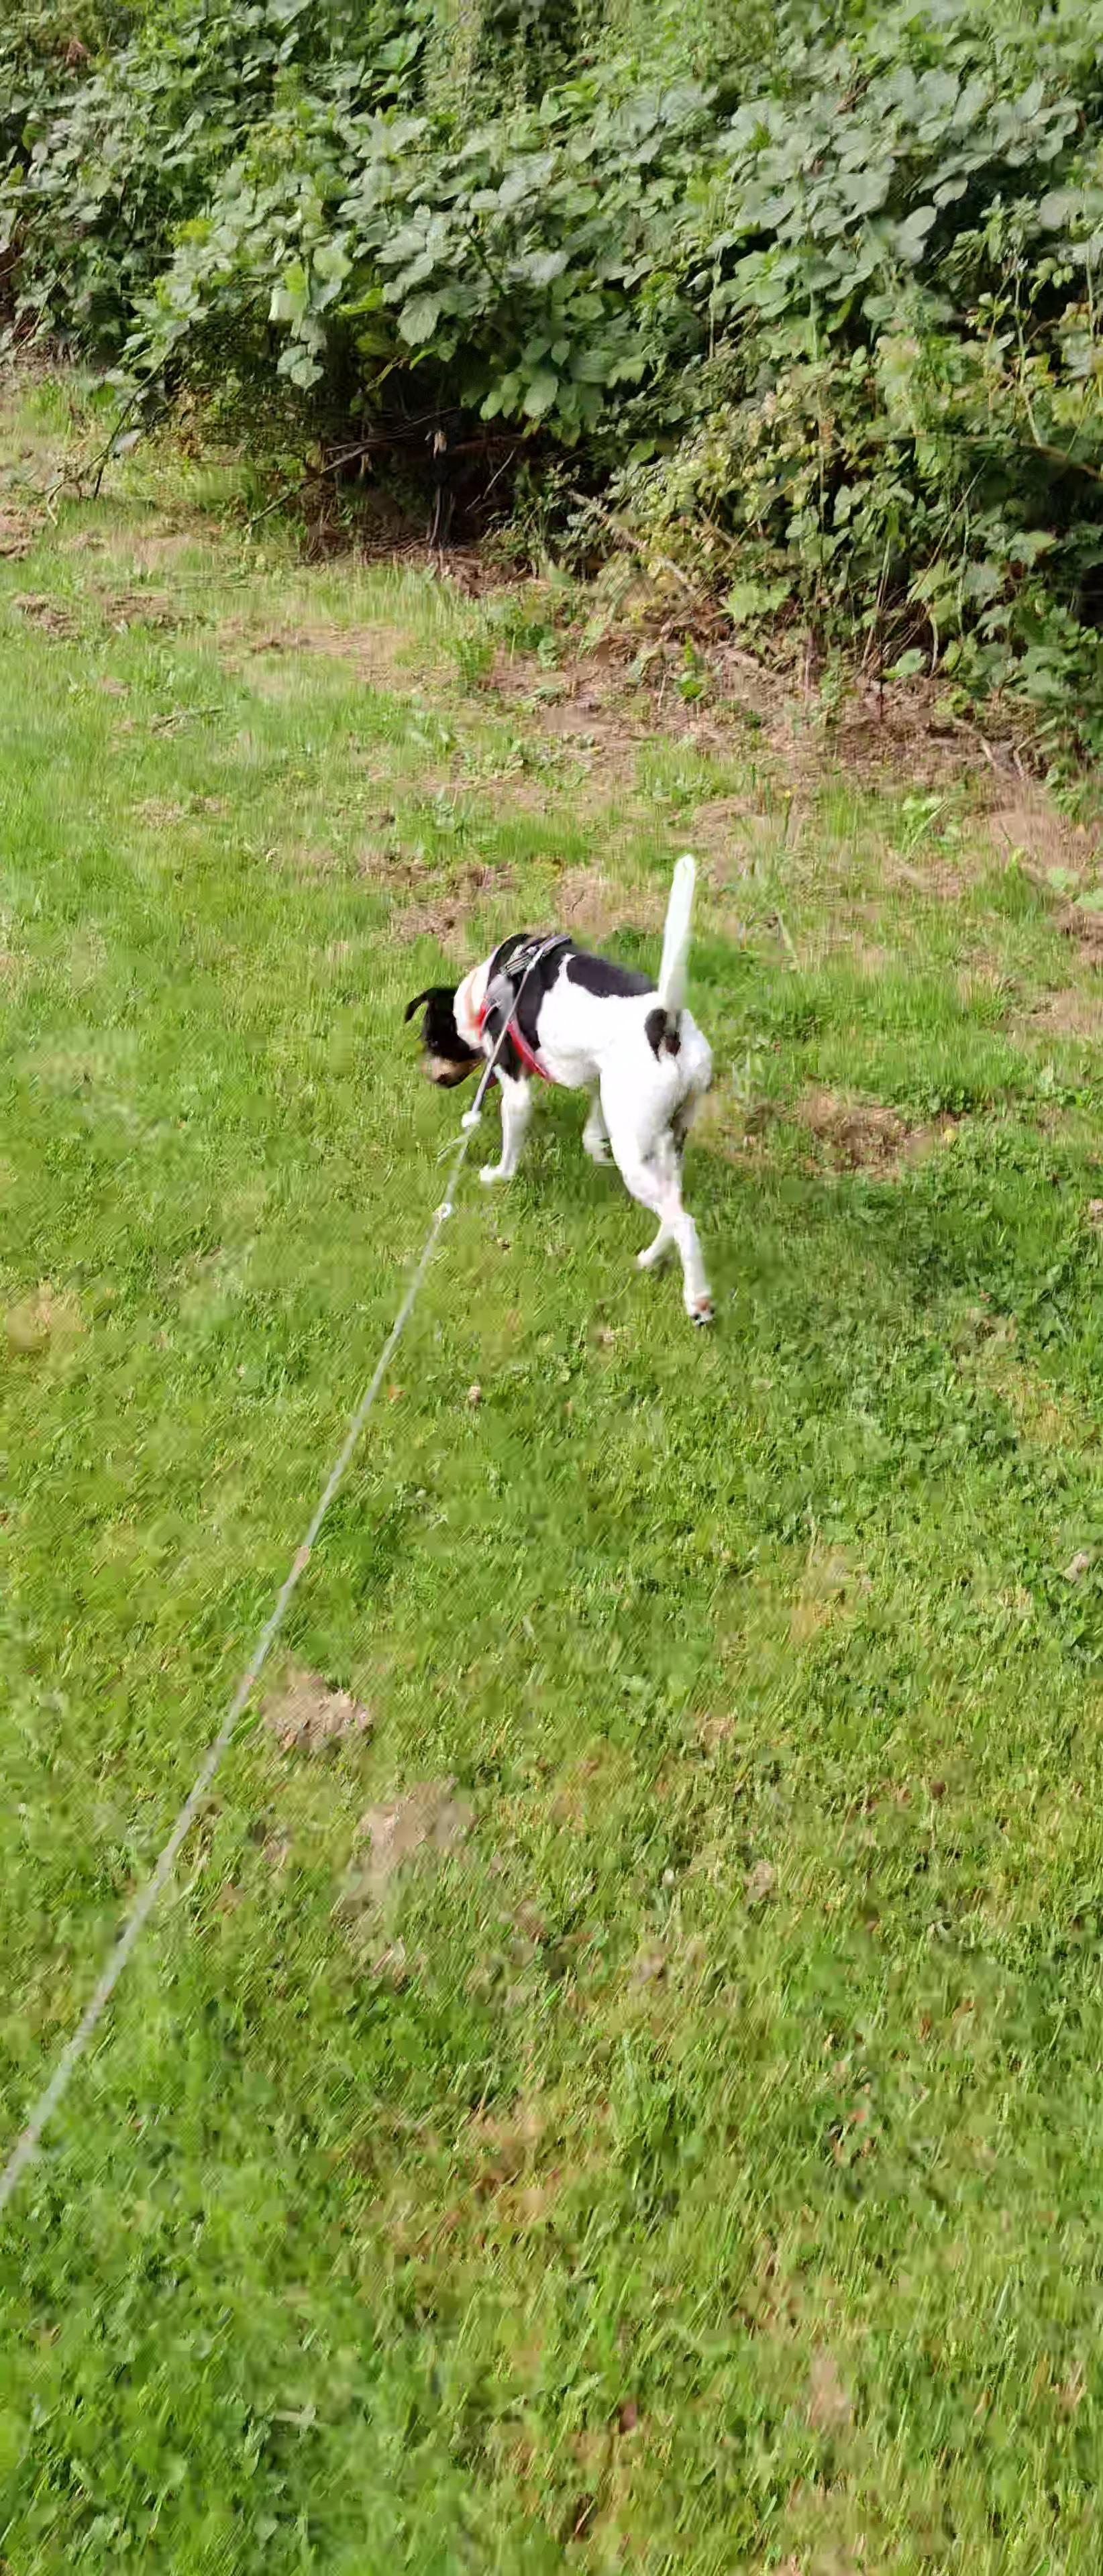Dog: (388, 838, 735, 1337)
